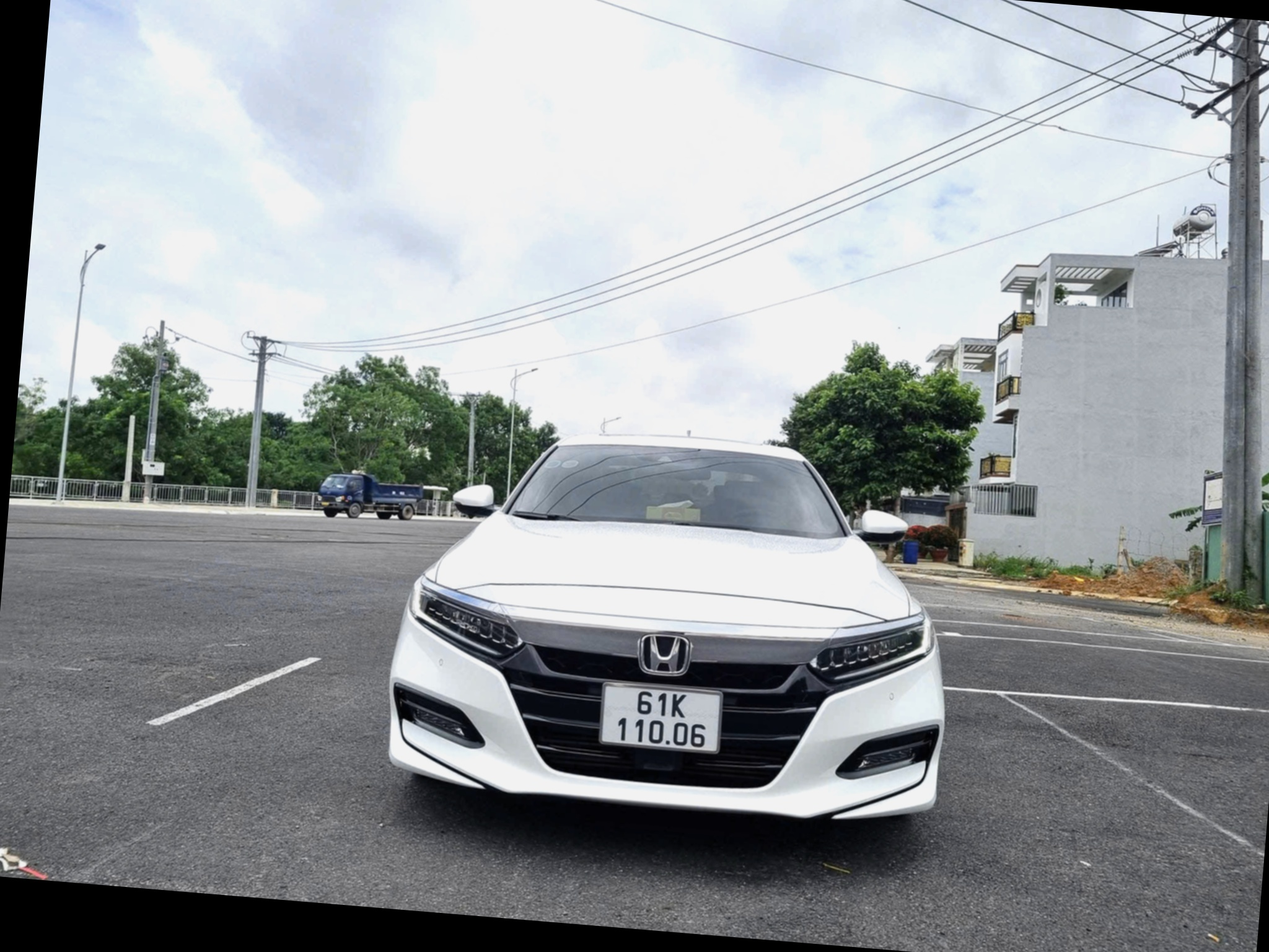Bien-so: (593, 679, 728, 757)
